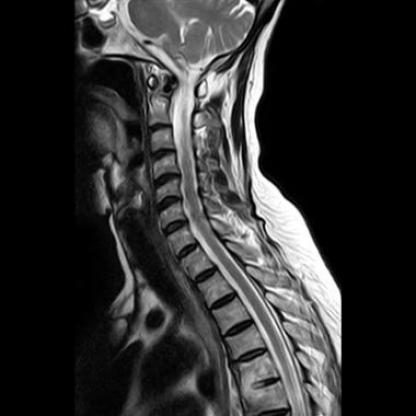Disc Bulgerotation: (160, 217, 190, 237), (154, 195, 185, 213), (151, 172, 182, 189)
